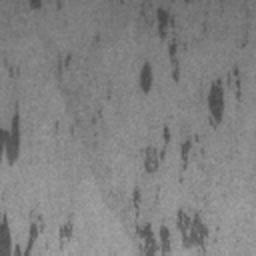Red iron sheet: (133, 8, 248, 256), (0, 53, 72, 165), (0, 213, 74, 256), (92, 33, 101, 46), (30, 0, 42, 9)
